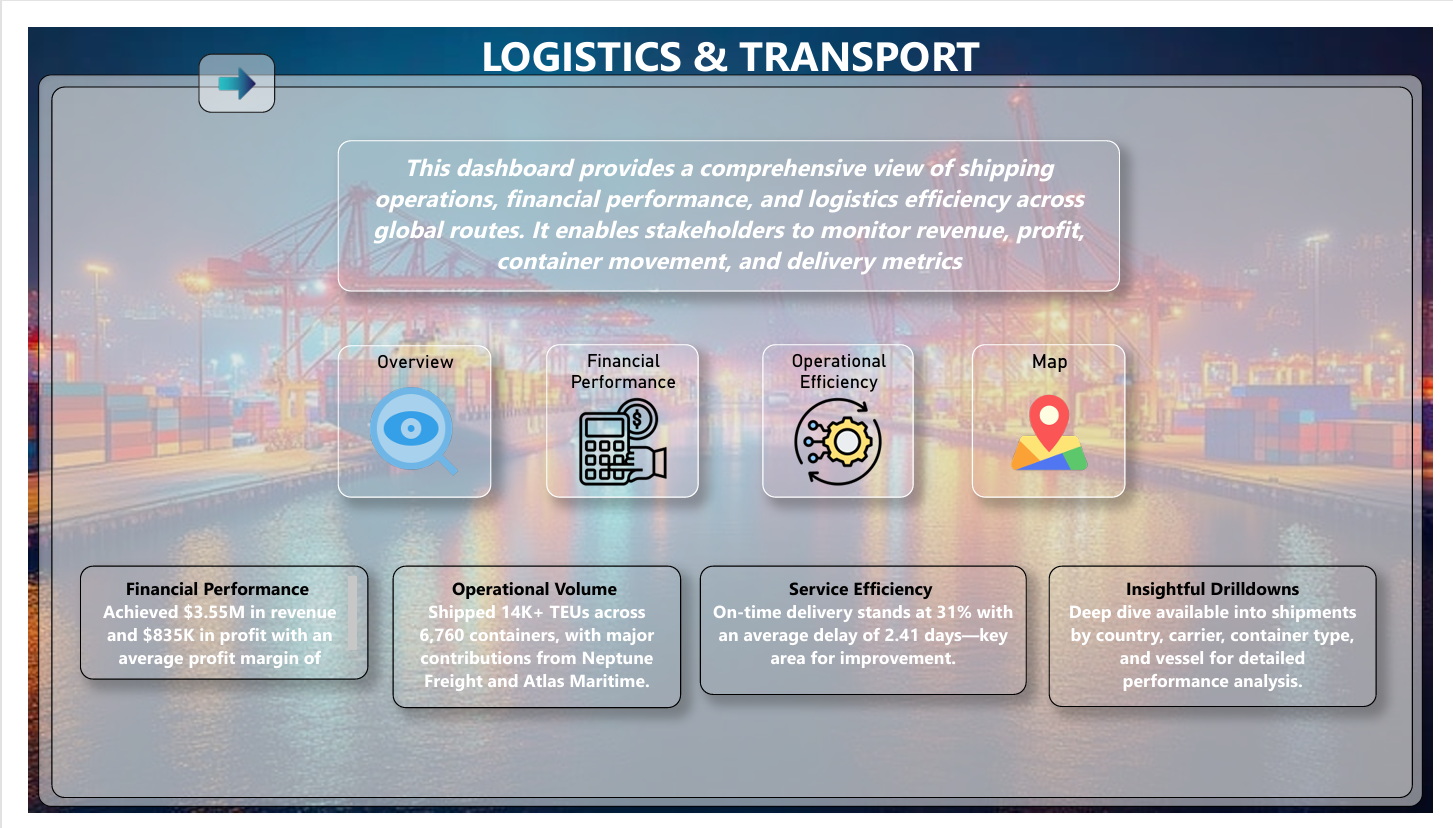

The dashboard page shown, as its layout file describes it:
{"tool":"powerbi","page":{"name":"Home","canvas":[1280,720],"ordinal":0},"visuals":[{"type":"shape","box":[0,34,1280,686],"z":0},{"type":"shape","box":[20.8,53.8,1241.2,649.3],"z":1000},{"type":"shape","box":[154.8,23.8,70.5,54.3],"z":2000},{"type":"image","box":[159.3,29,62.7,44.6],"z":3000},{"type":"textbox","box":[407.7,0,464.7,74.6],"z":6000},{"type":"image","title":"Financial Performance","box":[472,288.6,139.4,140.6],"z":7000},{"type":"image","title":"Operational Efficiency","box":[668.9,288.6,138.2,140.6],"z":8000},{"type":"image","title":"Map","box":[859.7,288.6,140.6,140.6],"z":9000},{"type":"image","title":"Overview","box":[282.5,289.8,139.4,139.4],"z":10000},{"type":"textbox","box":[47.4,491.1,262.9,103.9],"z":11000},{"type":"textbox","box":[282.3,102.5,713,138.7],"z":12000},{"type":"textbox","box":[331.8,491,263,130.3],"z":13000},{"type":"textbox","box":[611.7,491,298,118.2],"z":14000},{"type":"textbox","box":[930.2,491,299.2,129.1],"z":15000}]}

Visuals, with their boxes in screenshot pixels (x1, y1, x2, y2), scaled from the page's 1280x720 canvas onto the 1453x828 screenshot:
shape: region(0, 39, 1452, 827)
shape: region(24, 62, 1433, 809)
shape: region(176, 27, 256, 90)
image: region(181, 33, 252, 85)
textbox: region(463, 0, 990, 86)
"Financial Performance" image: region(536, 332, 694, 494)
"Operational Efficiency" image: region(759, 332, 916, 494)
"Map" image: region(976, 332, 1135, 494)
"Overview" image: region(321, 333, 479, 494)
textbox: region(54, 565, 352, 684)
textbox: region(320, 118, 1130, 277)
textbox: region(377, 565, 675, 714)
textbox: region(694, 565, 1033, 701)
textbox: region(1056, 565, 1396, 713)
